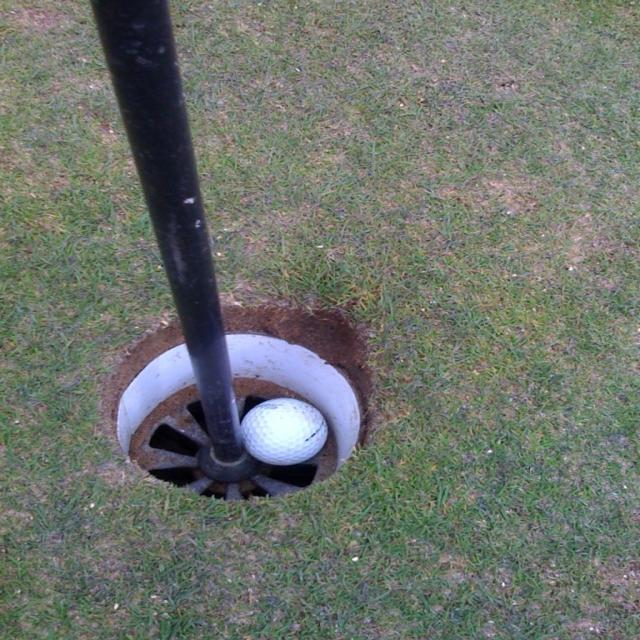Ball: (239, 398, 328, 465)
